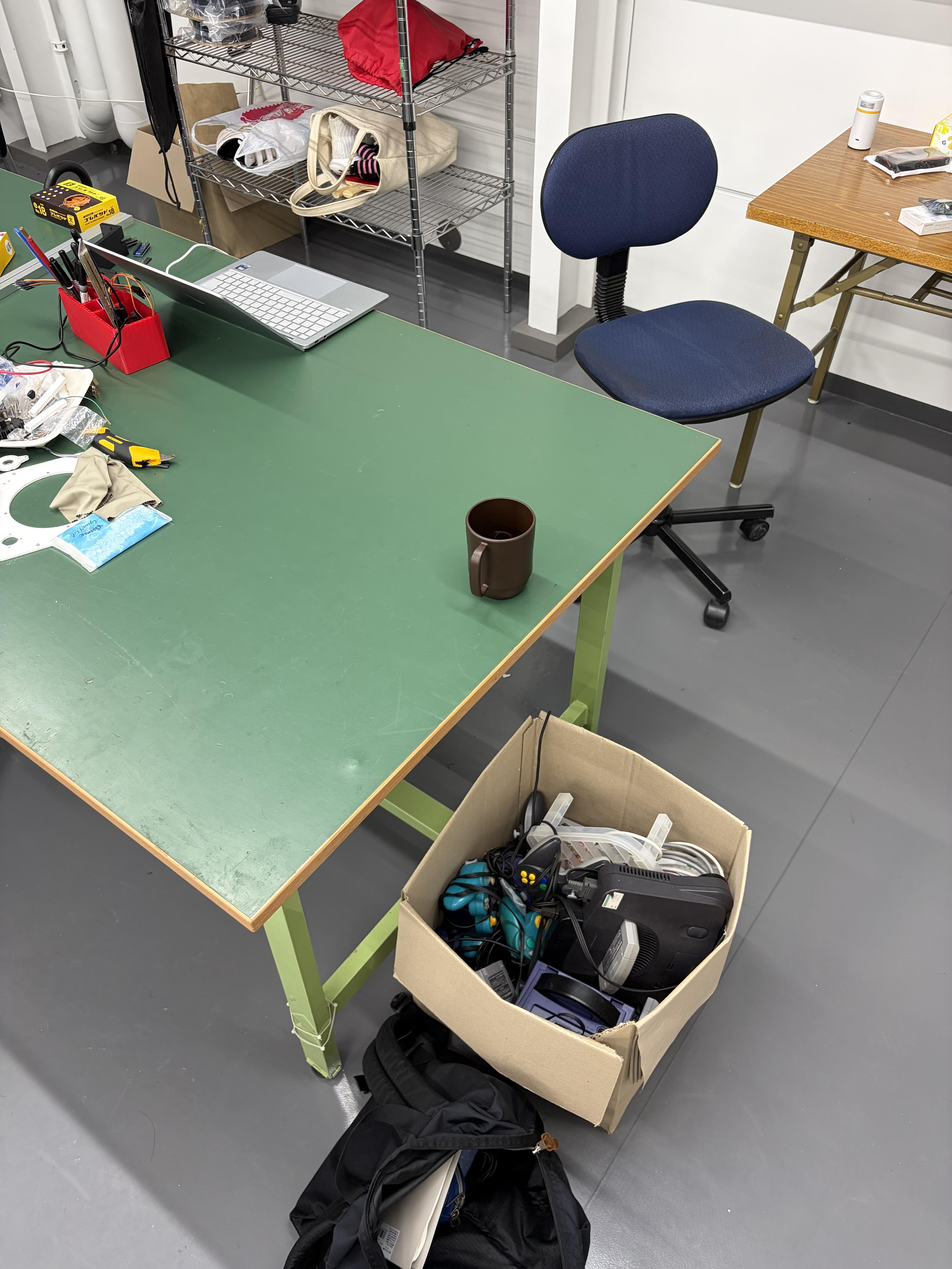mug-real100-3d100: (466, 498, 536, 599)
